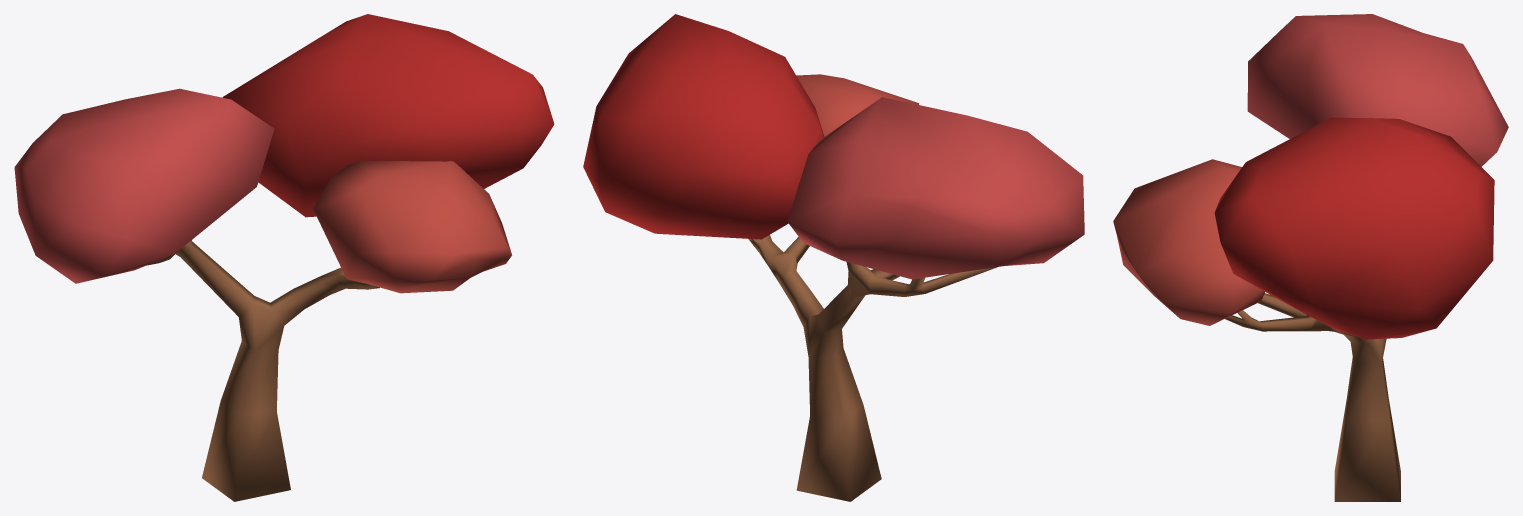
Rendered from Oak_Red_1.fbx.
3 views of the same model, side by side, from view 1: azimuth 30°, elevation 25°; view 2: azimuth 150°, elevation 25°; view 3: azimuth 270°, elevation 25° (orthographic). The views are drawn at different scales.
Visible parts, largest first — view 1: Foliage26, Foliage25, Foliage27, Trunk_9; view 2: Foliage25, Foliage26, Trunk_9, Foliage27; view 3: Foliage26, Foliage25, Foliage27, Trunk_9.
Part boxes in pixels (x1,y1,x2,y2): Foliage26: (222, 14, 554, 217); Foliage25: (14, 88, 274, 283); Foliage27: (313, 160, 511, 293); Trunk_9: (146, 240, 379, 501); Foliage25: (787, 97, 1084, 279); Foliage26: (583, 14, 824, 239); Trunk_9: (748, 235, 997, 501); Foliage27: (796, 74, 919, 136); Foliage26: (1214, 117, 1494, 339); Foliage25: (1247, 14, 1508, 166); Foliage27: (1113, 159, 1264, 325); Trunk_9: (1225, 293, 1400, 501).
Size of the model in its own units: 760 by 615 by 519.
